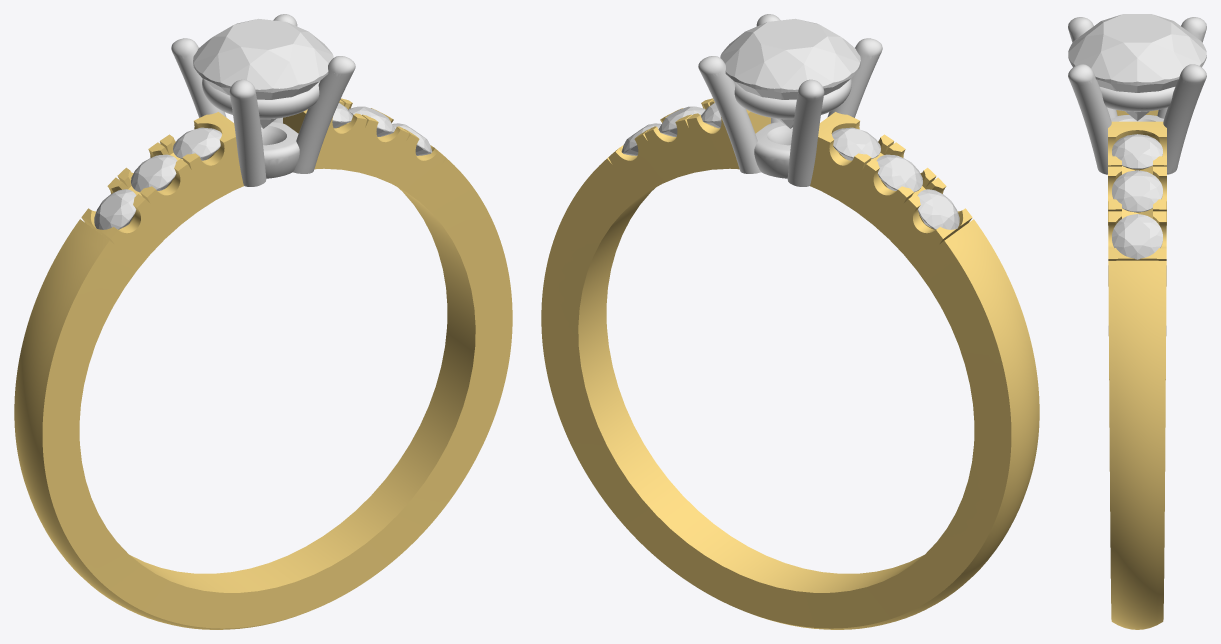
The model's file is Sarah_Ohal_7_stone_blender.glb.
3 renders of one model, left to right at view 1: azimuth 30°, elevation 25°; view 2: azimuth 150°, elevation 25°; view 3: azimuth 270°, elevation 25°, orthographic.
Visible parts, largest first — view 1: 7 stone YG for 3d model, 7 stone PT for 3d model, 7 stone dia for 3d model, 7 stone dia for 3d model.006, 7 stone dia for 3d model.005, 7 stone dia for 3d model.004; view 2: 7 stone YG for 3d model, 7 stone PT for 3d model, 7 stone dia for 3d model, 7 stone dia for 3d model.006, 7 stone dia for 3d model.005, 7 stone dia for 3d model.004; view 3: 7 stone YG for 3d model, 7 stone dia for 3d model, 7 stone PT for 3d model, 7 stone dia for 3d model.003, 7 stone dia for 3d model.002, 7 stone dia for 3d model.001.
Boxes of the visible parts, bbox=[...] form: 7 stone YG for 3d model: bbox=[14, 98, 512, 629]; 7 stone PT for 3d model: bbox=[171, 14, 355, 186]; 7 stone dia for 3d model: bbox=[193, 18, 333, 128]; 7 stone dia for 3d model.006: bbox=[94, 189, 136, 229]; 7 stone dia for 3d model.005: bbox=[131, 154, 177, 192]; 7 stone dia for 3d model.004: bbox=[173, 127, 221, 160]; 7 stone YG for 3d model: bbox=[541, 98, 1039, 629]; 7 stone PT for 3d model: bbox=[698, 14, 882, 186]; 7 stone dia for 3d model: bbox=[720, 18, 860, 128]; 7 stone dia for 3d model.006: bbox=[917, 189, 959, 229]; 7 stone dia for 3d model.005: bbox=[876, 154, 922, 192]; 7 stone dia for 3d model.004: bbox=[832, 127, 880, 160]; 7 stone YG for 3d model: bbox=[1108, 110, 1166, 629]; 7 stone dia for 3d model: bbox=[1068, 14, 1206, 120]; 7 stone PT for 3d model: bbox=[1068, 17, 1206, 174]; 7 stone dia for 3d model.003: bbox=[1112, 214, 1162, 259]; 7 stone dia for 3d model.002: bbox=[1112, 170, 1162, 212]; 7 stone dia for 3d model.001: bbox=[1112, 134, 1162, 169].
Size of the model in its own units: 21.14 by 24.8 by 5.42.
